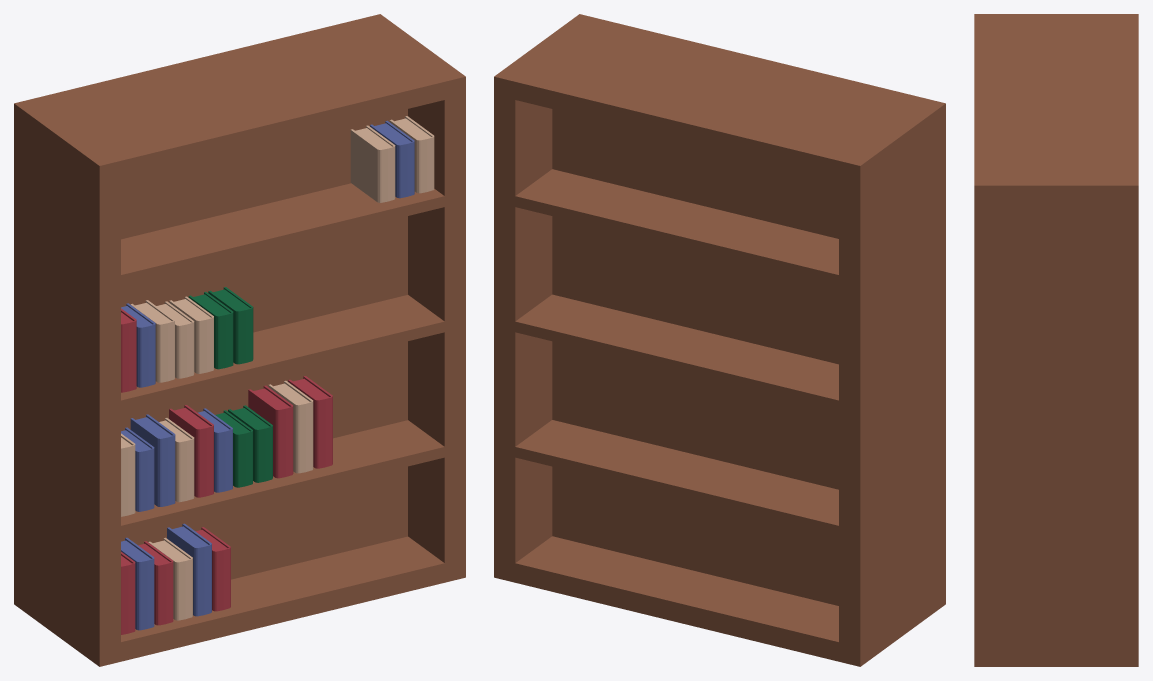
Rendered from Pop_Bookcase_color.fbx.
3 renders of one model, left to right at view 1: azimuth 30°, elevation 25°; view 2: azimuth 150°, elevation 25°; view 3: azimuth 270°, elevation 25°, orthographic. The views are drawn at different scales.
Parts seen in each view (by area): view 1: pCube1, pCube28, pCube16, pCube9, pCube13, pCube6, pCube17, pCube18, pCube3, pCube7, pCube19, pCube25 (+16 smaller); view 2: pCube1; view 3: pCube1.
Boxes of the visible parts, box(x1,y1,x2,y2) form: pCube1: box(14, 14, 465, 666); pCube28: box(350, 125, 395, 202); pCube16: box(248, 385, 293, 478); pCube9: box(130, 414, 175, 506); pCube13: box(169, 405, 213, 497); pCube6: box(167, 523, 211, 616); pCube17: box(268, 380, 313, 473); pCube18: box(288, 376, 332, 468); pCube3: box(121, 537, 154, 630); pCube7: box(148, 537, 192, 620); pCube19: box(130, 300, 174, 382); pCube25: box(208, 287, 253, 364); pCube1: box(494, 14, 945, 666); pCube1: box(974, 14, 1138, 666).
Bounding box in the file's own units: 11.37 × 14.85 × 4.6.
